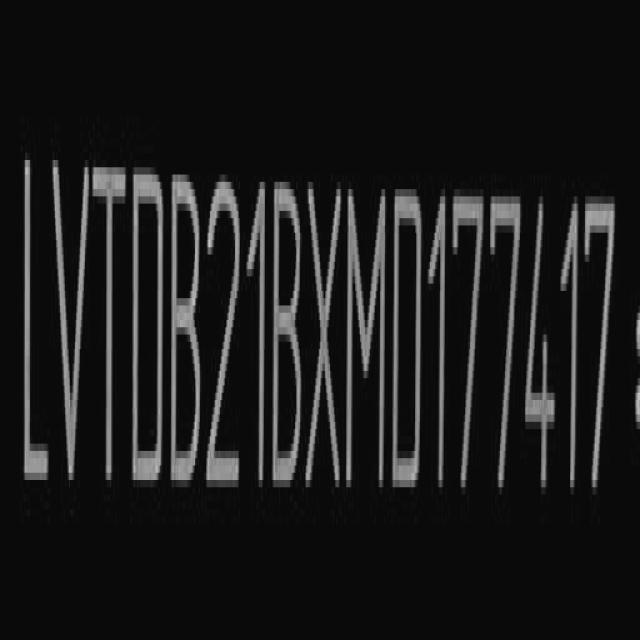1: (249, 179, 271, 490), (429, 187, 450, 491), (558, 189, 577, 501)
2: (209, 177, 244, 492)
4: (525, 186, 556, 500)
7: (585, 192, 615, 504), (491, 185, 521, 495), (456, 187, 485, 491)
B: (172, 172, 205, 491), (273, 178, 302, 490)
D: (130, 161, 166, 487), (393, 186, 426, 490)
L: (17, 148, 49, 496)
M: (347, 181, 386, 490)
T: (94, 153, 125, 489)
V: (50, 155, 90, 492)
X: (306, 178, 342, 487)
